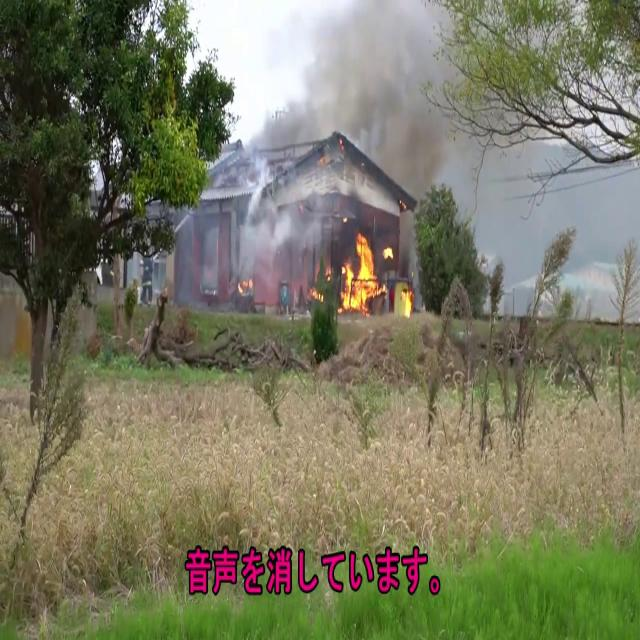Fire: (337, 226, 392, 312)
Smoke: (292, 0, 454, 196)
